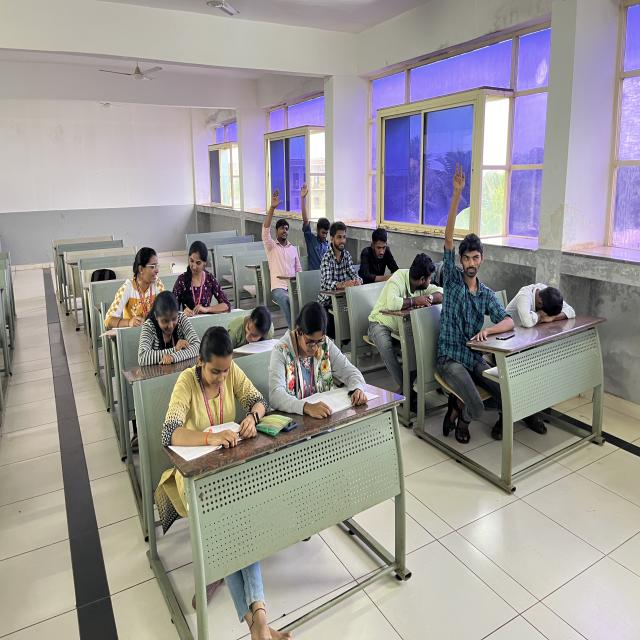Hand Rising: (440, 154, 497, 360), (251, 180, 305, 284), (290, 180, 336, 272)
Reading: (273, 292, 370, 418), (168, 328, 262, 435)
Sleeping: (502, 254, 586, 336)
Writing: (101, 236, 170, 342), (174, 219, 233, 324)
